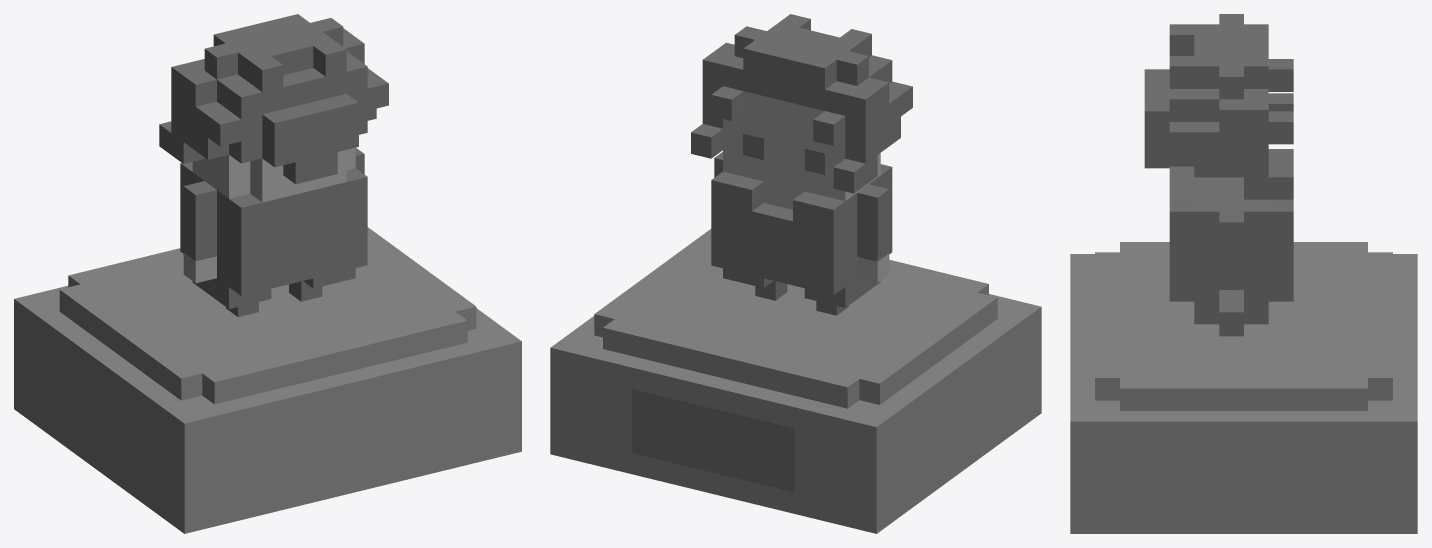
The model's file is obj_statue3.fbx.
3 renders of one model, left to right at view 1: azimuth 30°, elevation 25°; view 2: azimuth 150°, elevation 25°; view 3: azimuth 270°, elevation 25°, orthographic. The views are drawn at different scales.
Visible parts, largest first — view 1: obj_statue3; view 2: obj_statue3; view 3: obj_statue3.
Boxes of the visible parts, box(x1,y1,x2,y2) form: obj_statue3: box(14, 14, 521, 533); obj_statue3: box(550, 14, 1041, 533); obj_statue3: box(1070, 14, 1417, 533).
Size of the model in its own units: 1.6 by 1.4 by 1.8.
1 material, 1 textured.
